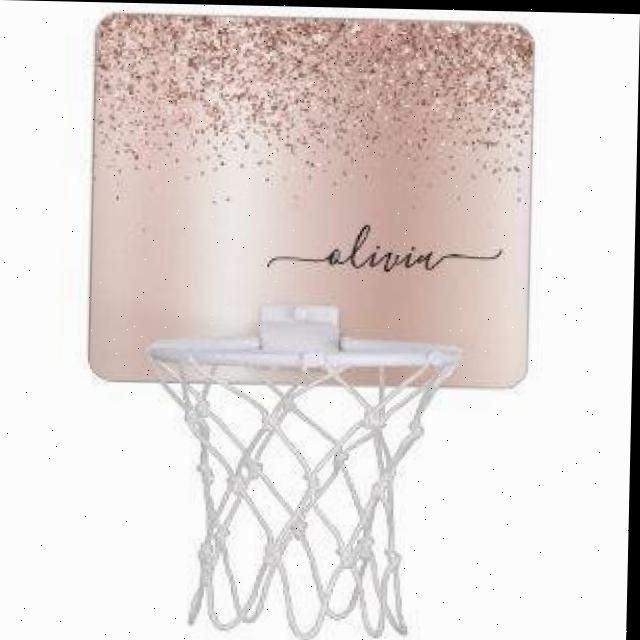hoop: (142, 331, 463, 640)
